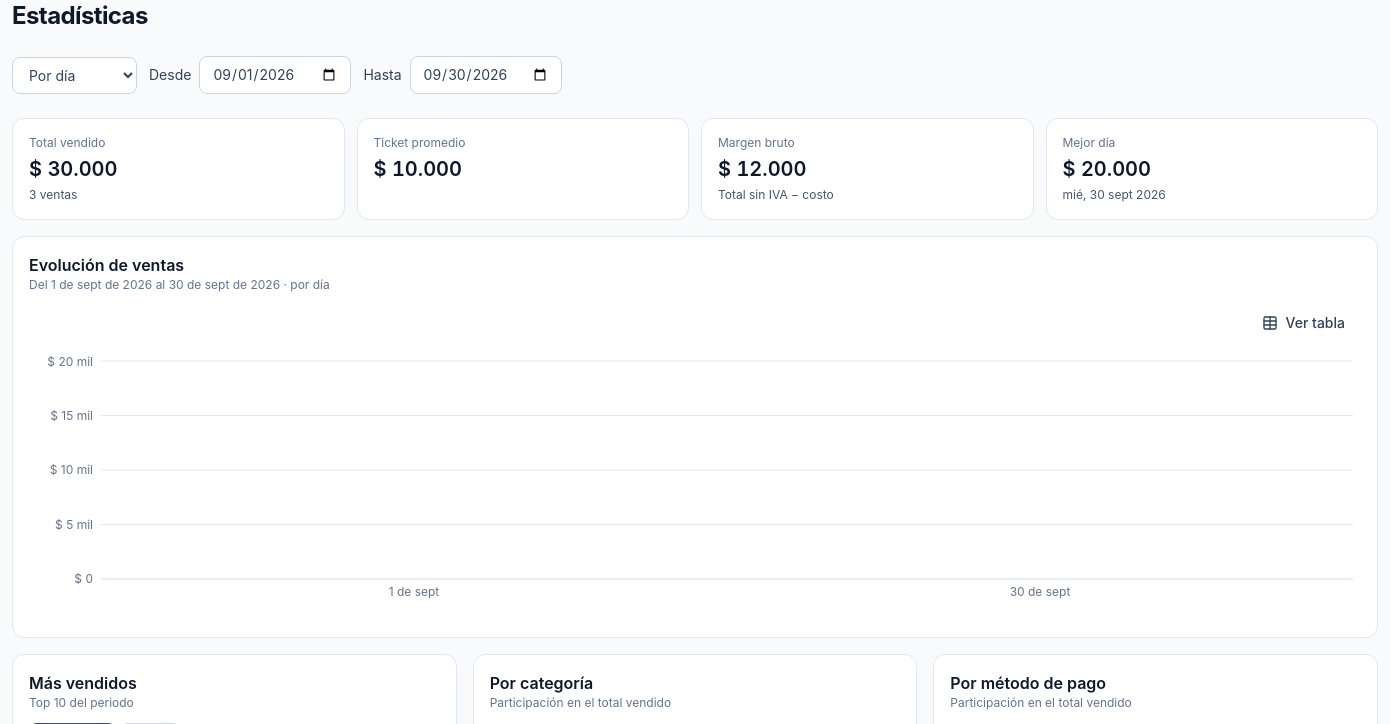
Test: StatisticsPage › shows every section to the administrator
Expected: the text "$ 30.000" in the row of "$ 12.000" is shown, [29, 157, 118, 181]
Expected: the text "Mejor día" is shown, [1062, 135, 1115, 150]
Click the button "Ver tabla" at (1303, 323), box [1246, 305, 1361, 341]
(page scrolled)
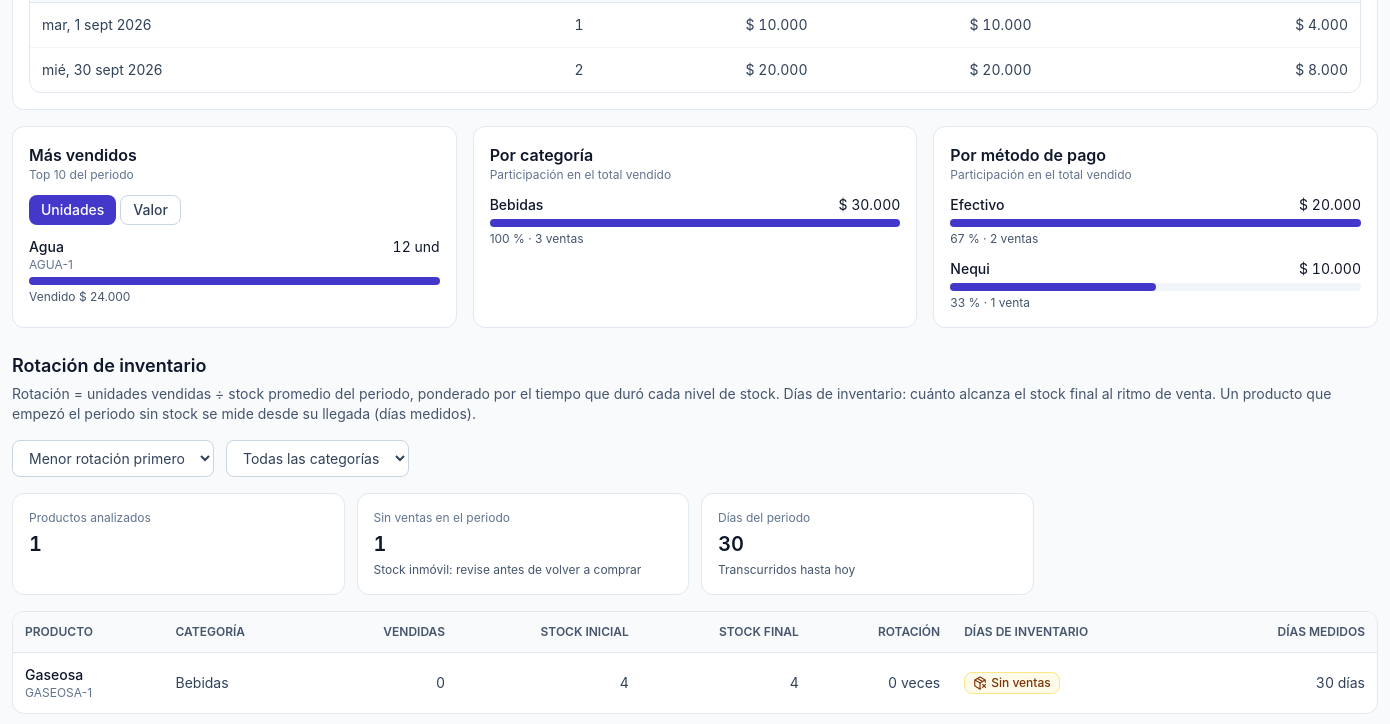
Expected: the text "Agua" is shown, [29, 238, 64, 255]
Expected: the text "$ 8.000" is shown, [1044, 48, 1360, 92]
